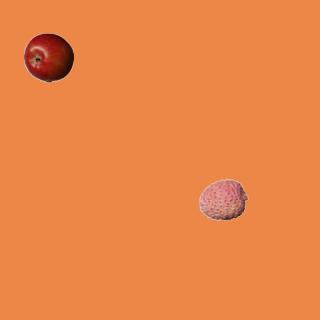Apple Braeburn: (23, 32, 73, 82)
Lychee: (198, 174, 248, 224)
